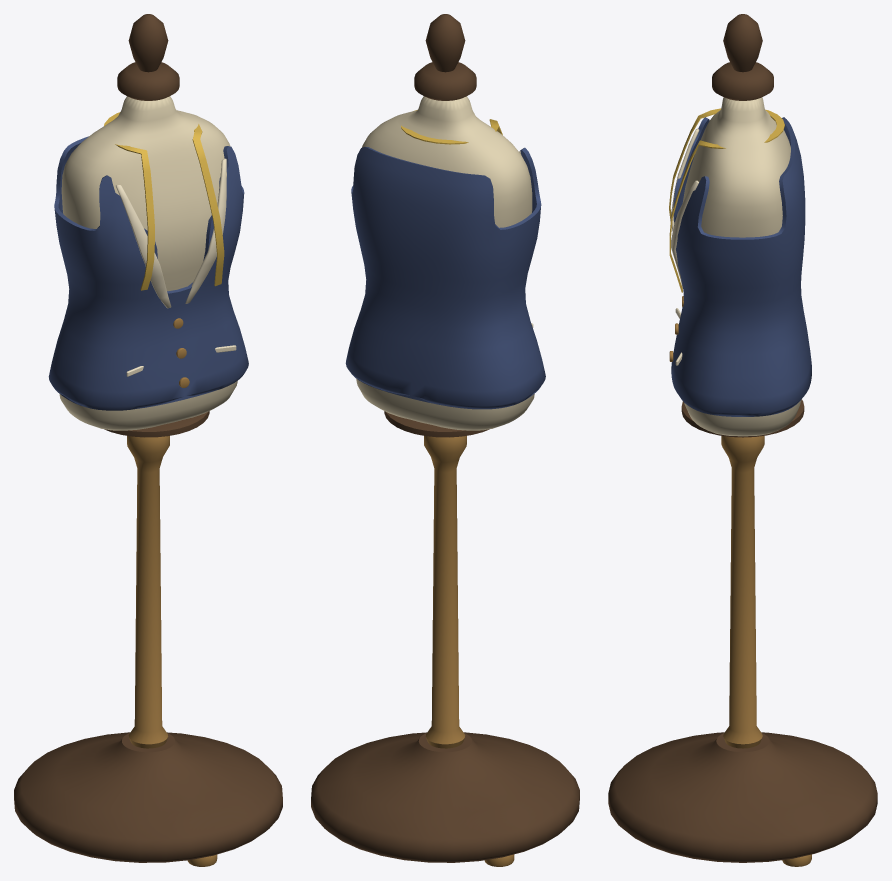
The model's file is tailor_dress_form.glb.
The picture shows the model from 3 angles, left to right: view 1: azimuth 30°, elevation 25°; view 2: azimuth 150°, elevation 25°; view 3: azimuth 270°, elevation 25°; orthographic projection.
Visible parts, largest first — view 1: Waistcoat, Base, Torso, Pole, NeckCap, TapeMeasure, Lapel, Lapel.001, HipPlate; view 2: Waistcoat, Base, Torso, Pole, NeckCap, HipPlate; view 3: Base, Waistcoat, Torso, Pole, NeckCap, TapeMeasure, HipPlate.
Boxes of the visible parts, x1,y1,x2,y2 form: Waistcoat: (48, 136, 248, 410); Base: (14, 732, 282, 862); Torso: (59, 96, 237, 430); Pole: (127, 436, 169, 748); NeckCap: (117, 14, 179, 100); TapeMeasure: (104, 112, 224, 290); Lapel: (116, 185, 171, 308); Lapel.001: (185, 158, 226, 303); HipPlate: (104, 411, 209, 437); Waistcoat: (345, 146, 545, 409); Base: (311, 732, 579, 862); Torso: (356, 96, 534, 430); Pole: (424, 436, 466, 748); NeckCap: (414, 14, 476, 100); HipPlate: (384, 411, 489, 437); Base: (608, 732, 877, 862); Waistcoat: (671, 117, 811, 416); Torso: (682, 97, 801, 436); Pole: (721, 436, 764, 748); NeckCap: (712, 14, 773, 100); TapeMeasure: (669, 108, 784, 292); HipPlate: (681, 399, 804, 437).
Bounding box in the file's own units: 0.624 × 2.06 × 0.624.
